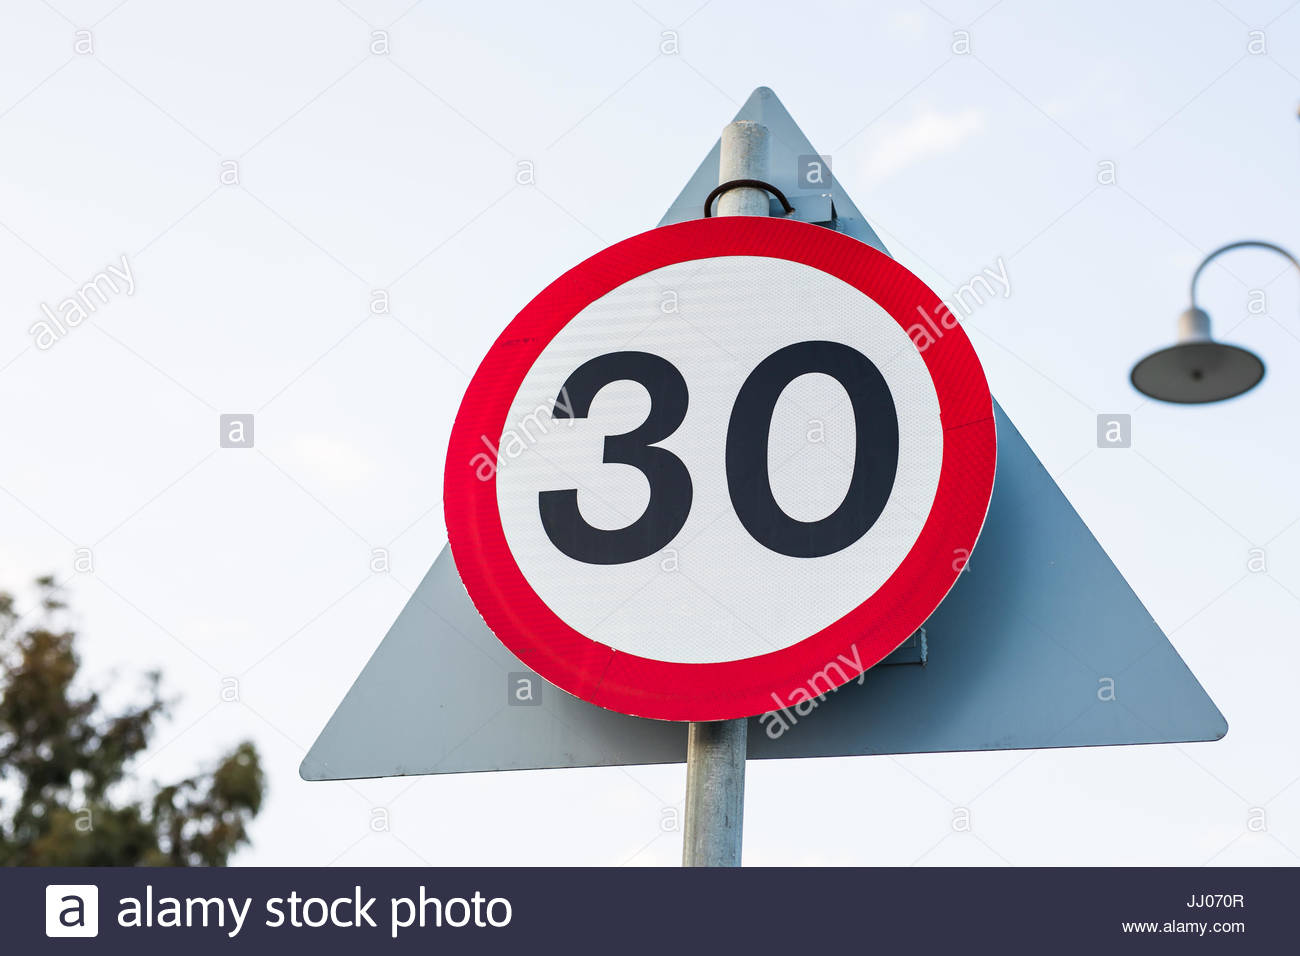Speed_limit_30km: (435, 215, 1000, 719)
